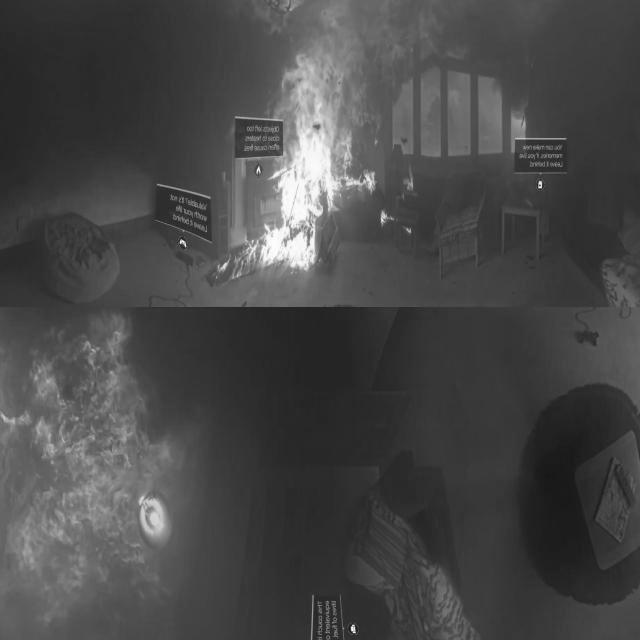smoke: (224, 65, 375, 282), (401, 166, 414, 197), (378, 206, 393, 230), (402, 224, 412, 235)
